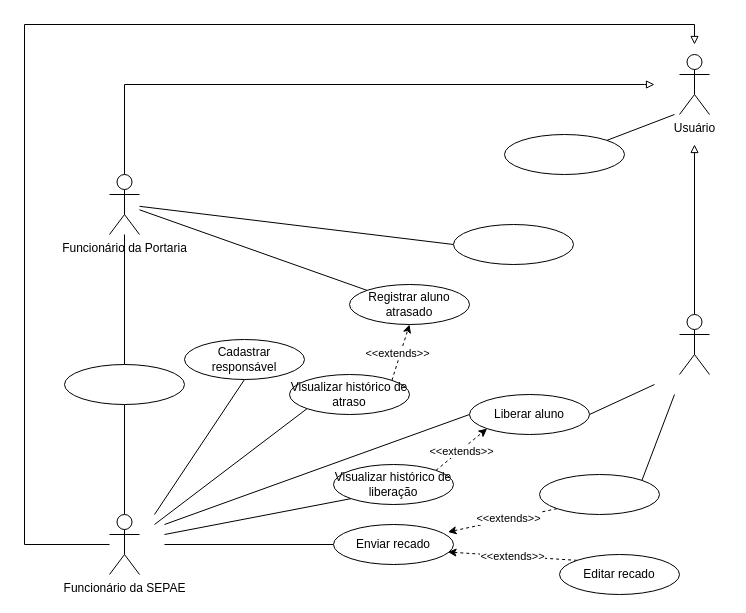
This 746x613 diagram has some shape labels left out. Here are the shapes that lost their labels. From the top down, the centre of each, then its label:
At (x=564, y=154): "Efetuar login".
At (x=513, y=244): "Validar a saída dos aluno".
At (x=694, y=344): "Responsável".
At (x=124, y=384): "Cadastrar funcionário".
At (x=599, y=494): "Ler recado".
